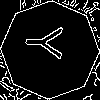Y: (25, 25, 72, 60)
